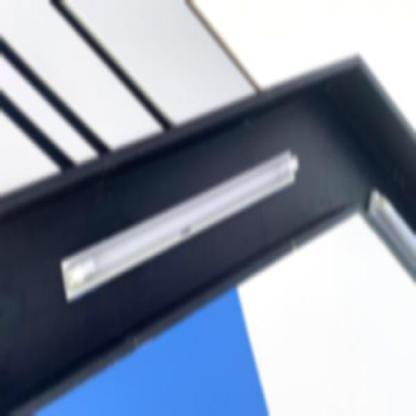light_off: (56, 131, 304, 315), (362, 161, 416, 299)
